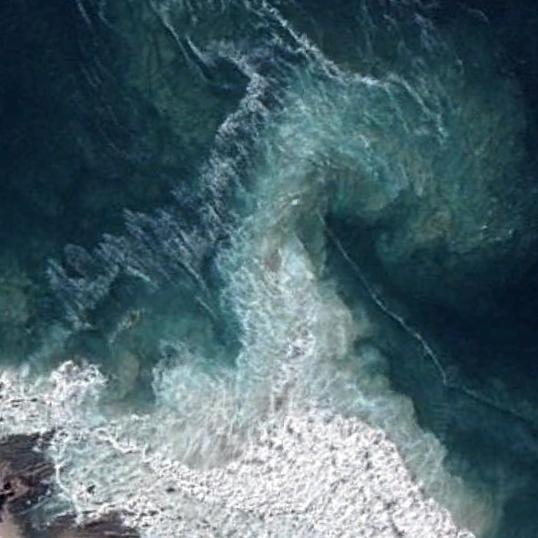rip_current: (183, 28, 470, 478)
